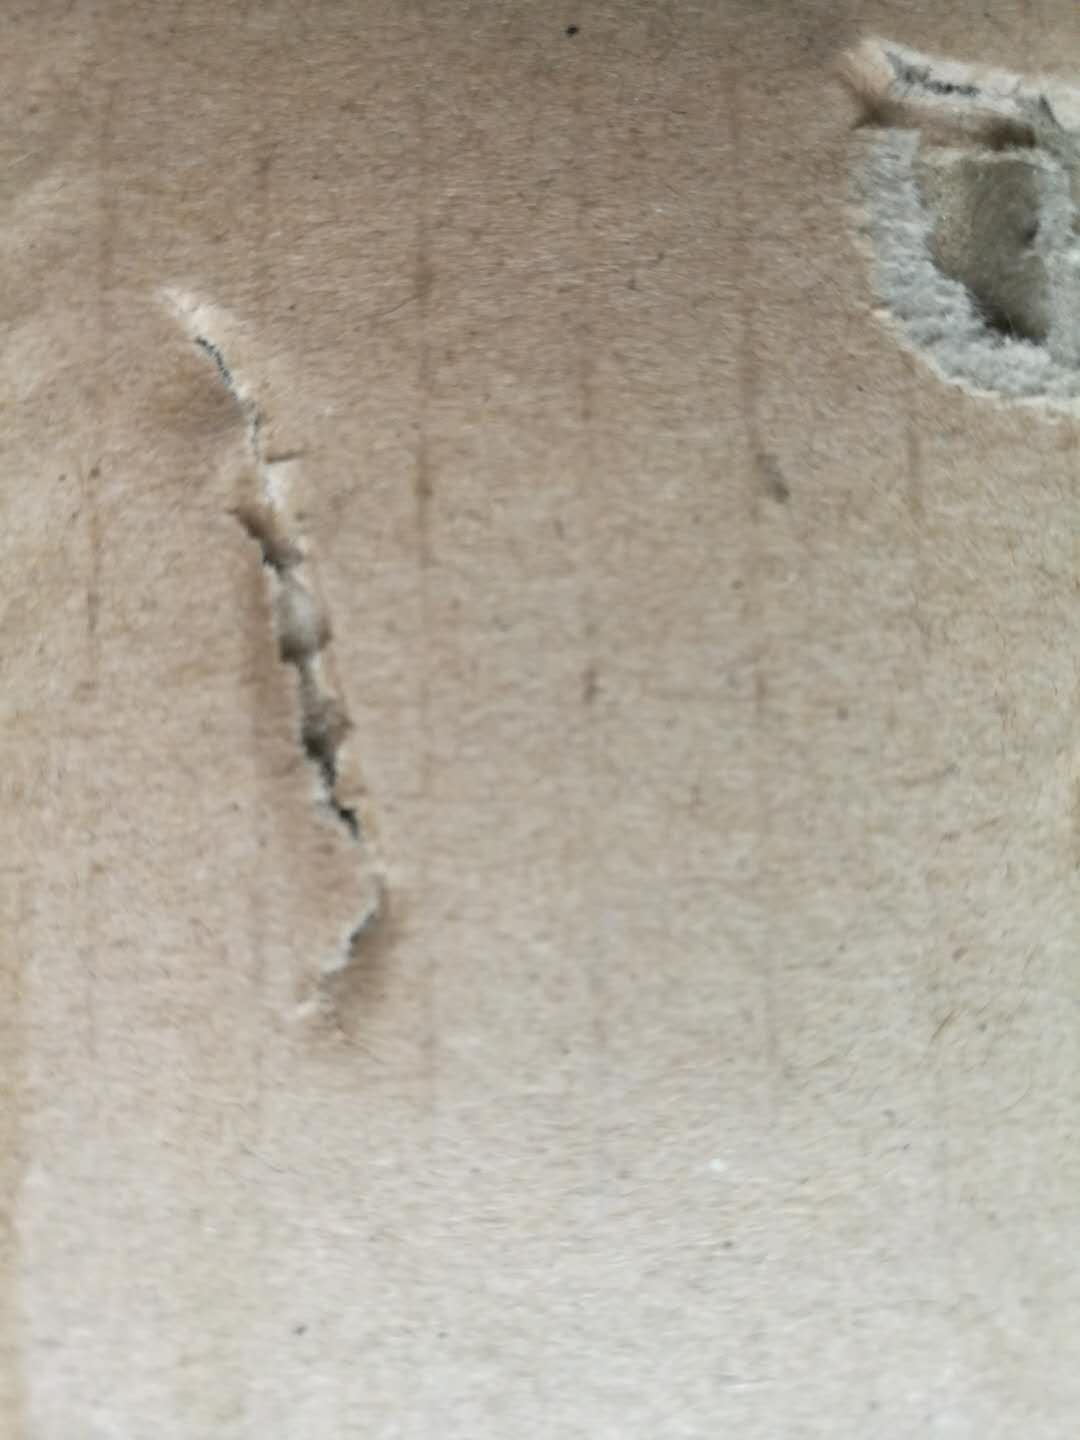defect: (125, 255, 486, 1106), (788, 8, 1080, 447)
